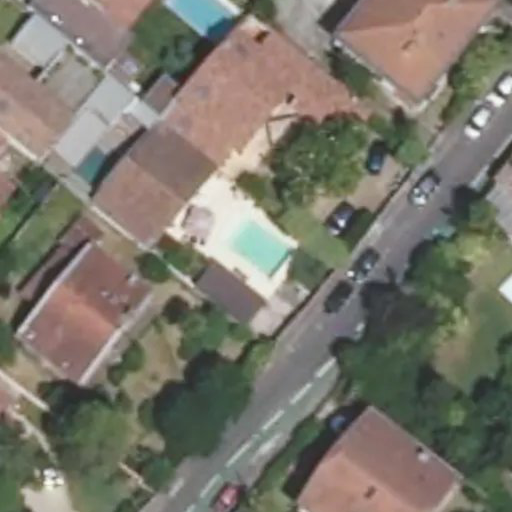pool: (238, 225, 286, 273), (172, 1, 230, 37), (75, 150, 107, 184)
